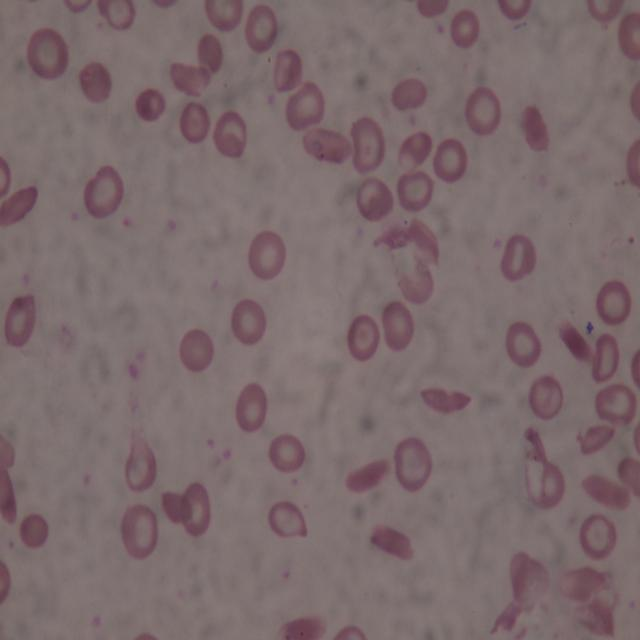Crystal: (301, 126, 353, 170), (578, 469, 632, 511), (366, 525, 418, 564), (555, 318, 595, 366), (0, 182, 39, 228), (271, 613, 328, 640), (345, 458, 387, 494), (0, 462, 21, 530), (579, 421, 613, 457)
Normal: (83, 162, 126, 225), (392, 432, 434, 492), (26, 27, 70, 82), (119, 502, 160, 559), (502, 318, 542, 372), (2, 293, 38, 352), (463, 86, 502, 138), (246, 231, 286, 281), (232, 382, 268, 434), (243, 2, 279, 54), (180, 480, 213, 536), (596, 279, 633, 327), (230, 300, 267, 348), (432, 137, 470, 182), (266, 432, 307, 473), (447, 8, 483, 51), (199, 0, 243, 33)
Others: (519, 428, 565, 509), (369, 218, 443, 264), (507, 552, 550, 612), (389, 255, 438, 306), (123, 431, 158, 494), (286, 78, 326, 132), (554, 566, 616, 600), (350, 114, 384, 175), (498, 232, 537, 282), (177, 329, 217, 376), (354, 177, 394, 224), (578, 514, 616, 562), (264, 501, 309, 541), (212, 109, 248, 159), (380, 301, 415, 352), (166, 62, 212, 100), (594, 382, 635, 424), (528, 374, 564, 421), (177, 99, 211, 146), (519, 107, 552, 153), (396, 171, 432, 213), (94, 0, 141, 32), (591, 331, 620, 382), (397, 131, 432, 172), (77, 60, 111, 102), (18, 511, 50, 554), (389, 77, 427, 113), (273, 49, 302, 92), (617, 10, 639, 62), (195, 34, 224, 73), (134, 86, 166, 121), (161, 489, 190, 526), (494, 0, 538, 23), (586, 0, 623, 24), (623, 139, 640, 190), (627, 77, 640, 122)
Sickle: (417, 384, 476, 418)
Target: (343, 312, 379, 363)
